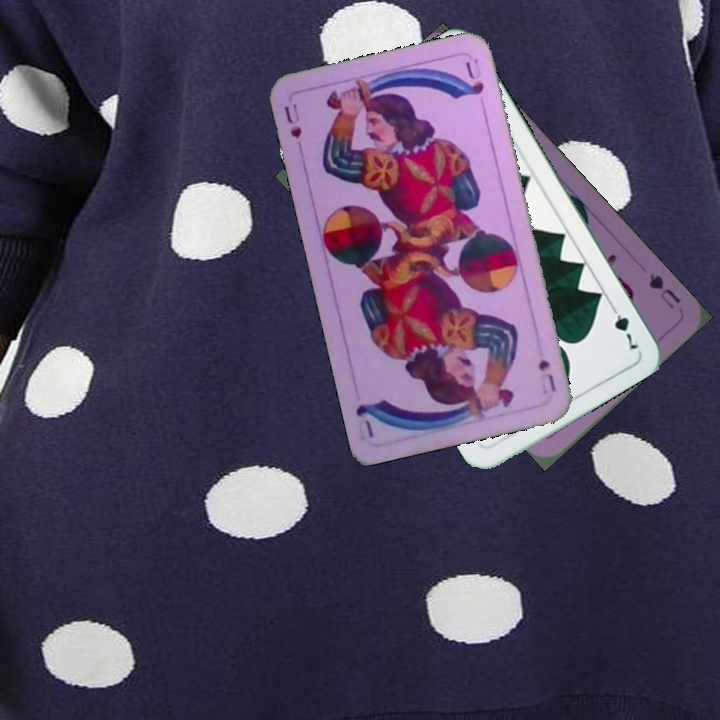G7: (605, 299, 641, 353)
GU: (644, 269, 683, 312)
SU: (280, 99, 305, 141), (534, 355, 558, 394)
